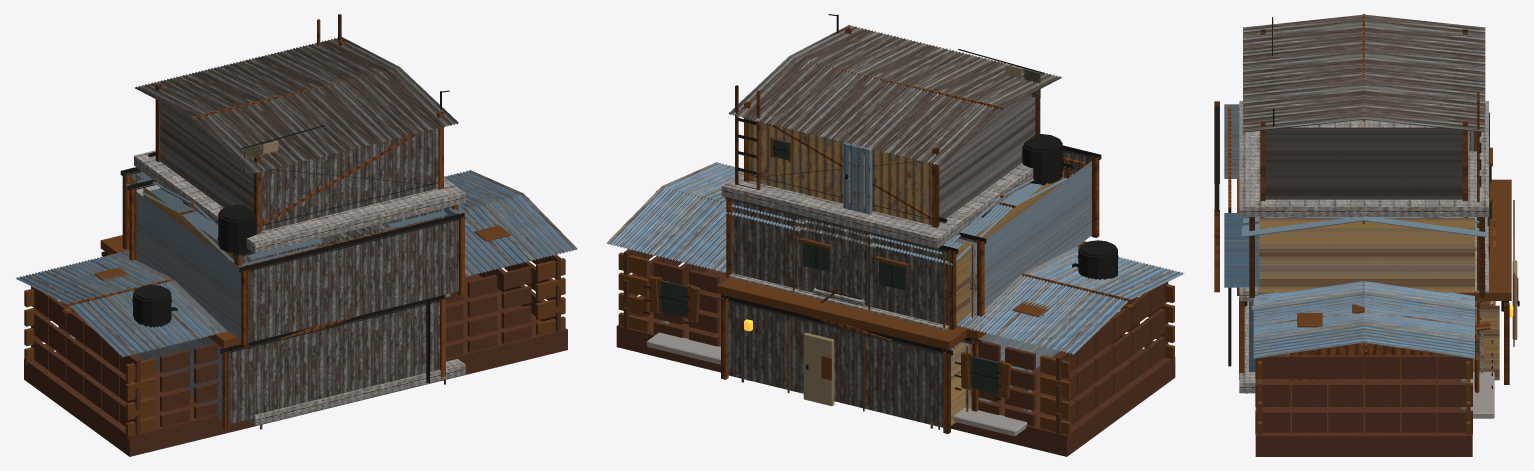
The model's file is homes.glb.
The picture shows the model from 3 angles, left to right: view 1: azimuth 30°, elevation 25°; view 2: azimuth 150°, elevation 25°; view 3: azimuth 270°, elevation 25°; orthographic projection. The views are drawn at different scales.
Visible parts, largest first — view 1: block-a surface galvanised-tin, terrace-a surface salvaged-brick, stack-b surface red-oxide, terrace-a surface paint-blue, stack-b surface galvanised-tin, block-a surface paint-blue, stack-b surface weathered-plank, terrace-a surface rusted-steel, block-a surface iron-dark, block-a surface rusted-steel, stack-b surface rusted-steel, stack-a surface weathered-plank (+6 smaller); view 2: block-b surface red-oxide, stack-b surface red-oxide, terrace-a surface salvaged-brick, terrace-a surface paint-blue, block-a surface paint-blue, block-b surface rusted-steel, stack-b surface faded-hand-paint, stack-b surface weathered-plank, terrace-a surface rusted-steel, stack-b surface galvanised-tin, block-b surface faded-hand-paint, stack-b surface rusted-steel (+12 smaller); view 3: stack-b surface red-oxide, terrace-a surface salvaged-brick, block-b surface faded-hand-paint, stack-b surface galvanised-tin, terrace-a surface paint-blue, stack-b surface weathered-plank, block-a surface paint-blue, block-b surface rusted-steel, block-a surface rusted-steel, terrace-a surface rusted-steel, stack-b surface rusted-steel, shack-c surface rusted-steel (+4 smaller).
Boxes of the visible parts, <box> form: block-a surface galvanised-tin: <box>229,219,458,423</box>; terrace-a surface salvaged-brick: <box>24,254,567,456</box>; stack-b surface red-oxide: <box>135,37,458,174</box>; terrace-a surface paint-blue: <box>16,170,577,357</box>; stack-b surface galvanised-tin: <box>160,101,438,231</box>; block-a surface paint-blue: <box>126,179,470,421</box>; stack-b surface weathered-plank: <box>134,150,465,254</box>; terrace-a surface rusted-steel: <box>24,195,565,439</box>; block-a surface iron-dark: <box>127,179,466,382</box>; block-a surface rusted-steel: <box>108,186,464,429</box>; stack-b surface rusted-steel: <box>155,14,443,233</box>; stack-a surface weathered-plank: <box>247,359,465,425</box>; block-b surface red-oxide: <box>727,199,948,427</box>; stack-b surface red-oxide: <box>728,25,1061,166</box>; terrace-a surface salvaged-brick: <box>616,248,1175,456</box>; terrace-a surface paint-blue: <box>607,162,1184,354</box>; block-a surface paint-blue: <box>716,161,1091,402</box>; block-b surface rusted-steel: <box>717,165,1071,433</box>; stack-b surface faded-hand-paint: <box>750,65,1021,225</box>; stack-b surface weathered-plank: <box>721,150,1033,329</box>; terrace-a surface rusted-steel: <box>618,187,1174,439</box>; stack-b surface galvanised-tin: <box>939,94,1035,223</box>; block-b surface faded-hand-paint: <box>803,171,1063,425</box>; stack-b surface rusted-steel: <box>735,27,1040,227</box>; stack-b surface red-oxide: <box>1243,14,1485,132</box>; terrace-a surface salvaged-brick: <box>1255,355,1472,456</box>; block-b surface faded-hand-paint: <box>1259,218,1517,380</box>; stack-b surface galvanised-tin: <box>1265,127,1462,199</box>; terrace-a surface paint-blue: <box>1253,281,1474,359</box>; stack-b surface weathered-plank: <box>1239,101,1488,393</box>; block-a surface paint-blue: <box>1224,104,1486,371</box>; block-b surface rusted-steel: <box>1249,112,1518,384</box>; block-a surface rusted-steel: <box>1214,101,1495,379</box>; terrace-a surface rusted-steel: <box>1257,281,1479,435</box>; stack-b surface rusted-steel: <box>1260,14,1479,217</box>; shack-c surface rusted-steel: <box>1290,301,1490,380</box>.
Size of the model in its own units: 14.73 by 8.67 by 8.16.
Materials: 25 (15 with a texture image).
